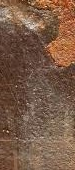Corrosion: (27, 1, 75, 69)
